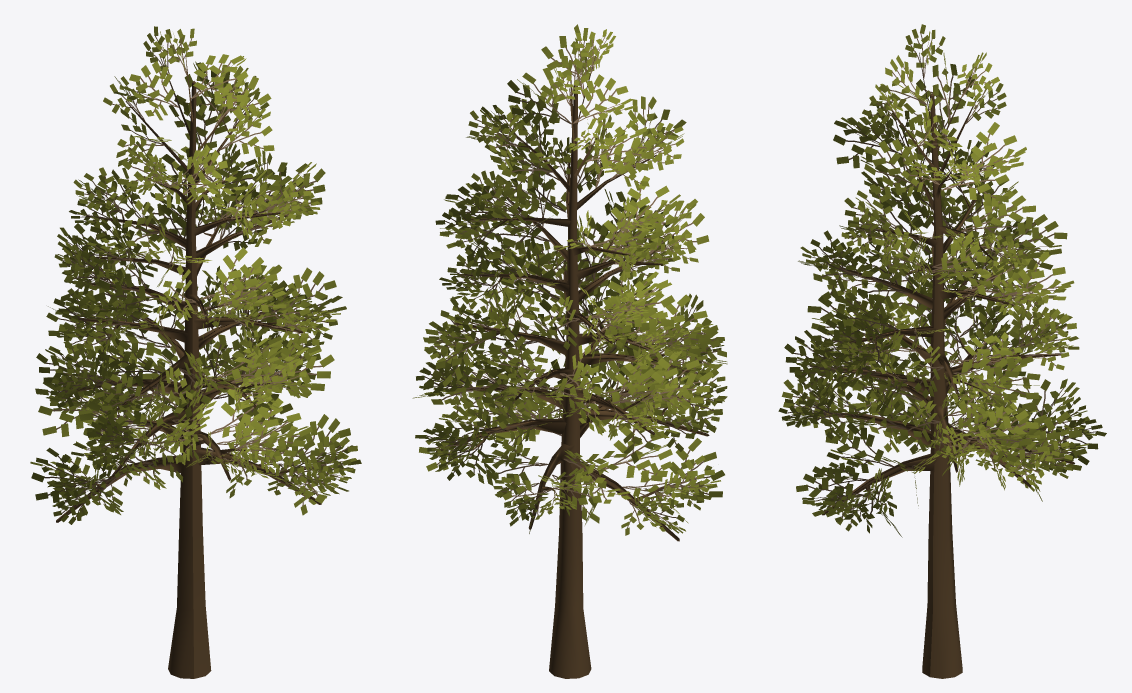
The model's file is SM_tree_01.gltf.
The picture shows the model from 3 angles, left to right: view 1: azimuth 30°, elevation 25°; view 2: azimuth 150°, elevation 25°; view 3: azimuth 270°, elevation 25°; orthographic projection. The views are drawn at different scales.
Visible parts, largest first — view 1: SM_tree_01; view 2: SM_tree_01; view 3: SM_tree_01.
Boxes of the visible parts, bbox=[...] form: SM_tree_01: bbox=[30, 26, 361, 678]; SM_tree_01: bbox=[412, 24, 727, 678]; SM_tree_01: bbox=[778, 24, 1106, 678].
Bounding box in the file's own units: 6.56 × 13.79 × 6.75.
Materials: 2 (1 with a texture image).
